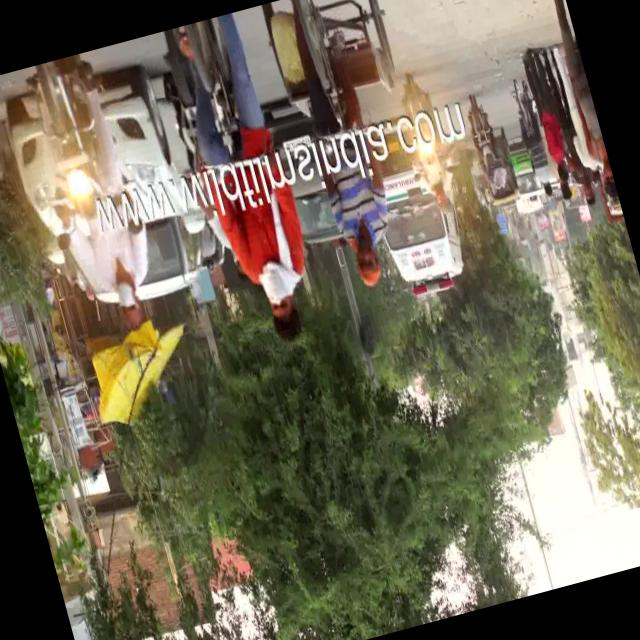ambulance: (382, 160, 476, 308)
